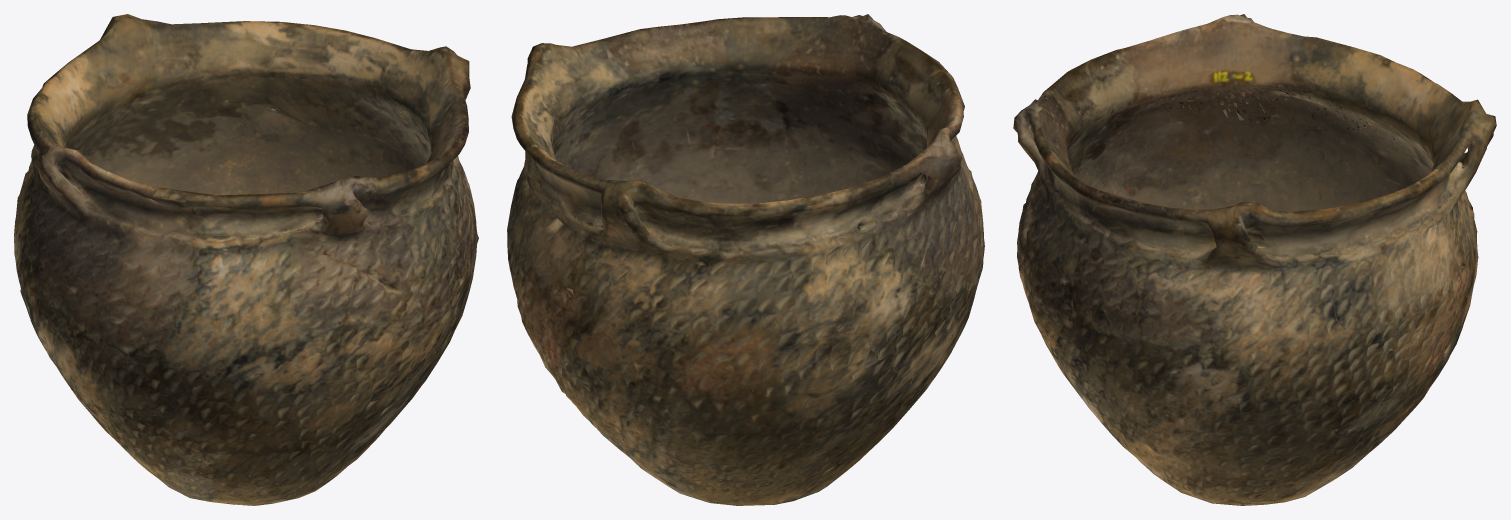
3 views of the same model, side by side, from view 1: azimuth 30°, elevation 25°; view 2: azimuth 150°, elevation 25°; view 3: azimuth 270°, elevation 25° (orthographic). The views are drawn at different scales.
Visible parts, largest first — view 1: ND0001_low; view 2: ND0001_low; view 3: ND0001_low.
Part boxes in pixels (x1,y1,x2,y2): ND0001_low: [14, 14, 478, 505]; ND0001_low: [507, 14, 984, 505]; ND0001_low: [1013, 14, 1496, 505].
Size of the model in its own units: 267 by 223 by 268.
1 material, 1 textured.
